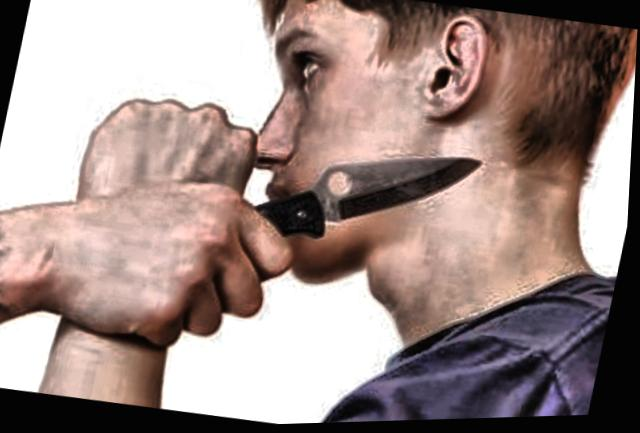knife: (163, 108, 494, 350)
